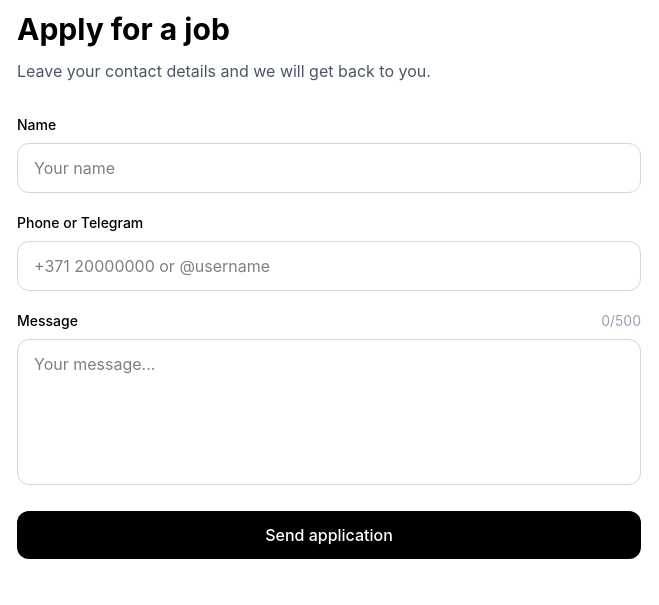
Scenario: ApplicationForm › shows validation error for an invalid contact
In the field labelled "Name": (329, 168) top-left (17, 143), bottom-right (641, 193), type "John"
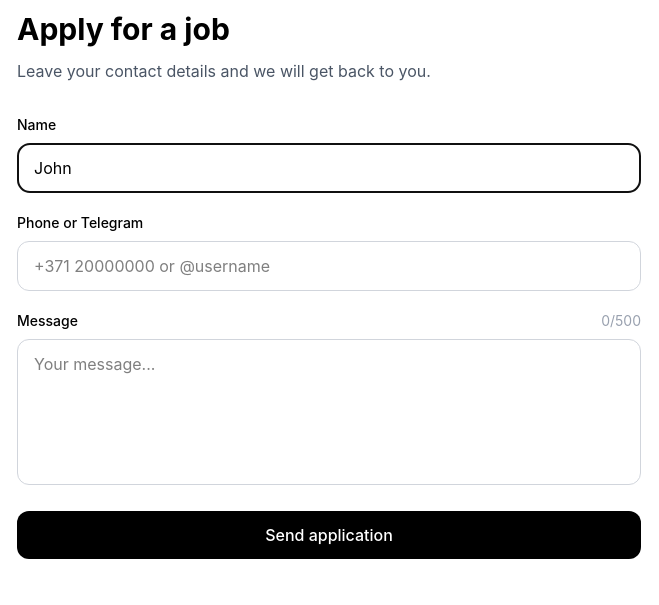
In the field labelled "Phone or Telegram": (329, 266) top-left (17, 241), bottom-right (641, 291), type "invalid contact"
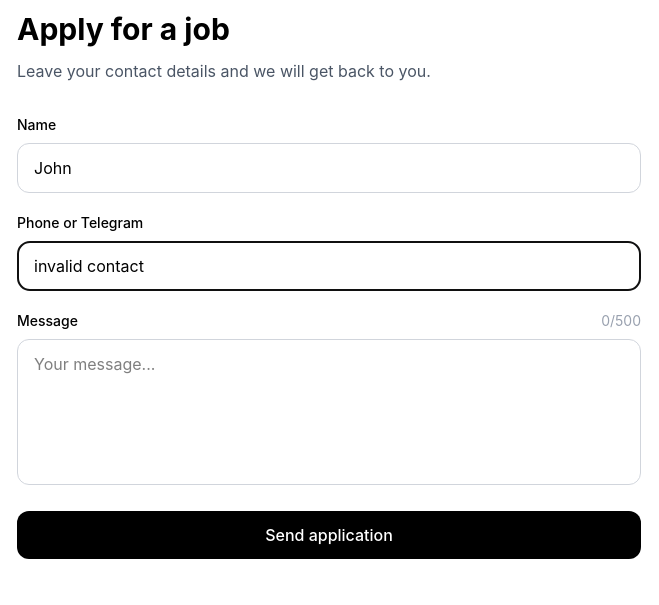
Click the button "Send application": click(329, 535) top-left (17, 511), bottom-right (641, 559)
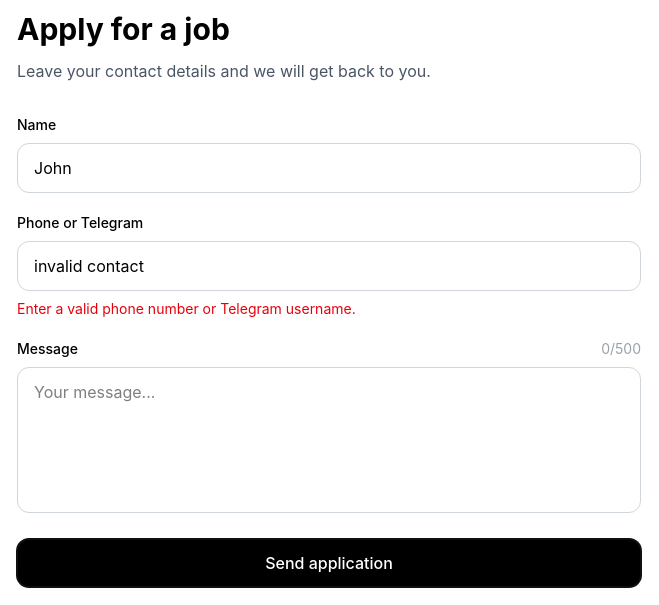
Check: the text "Enter a valid phone number or Telegram username." is shown, box top-left (17, 300), bottom-right (356, 317)
